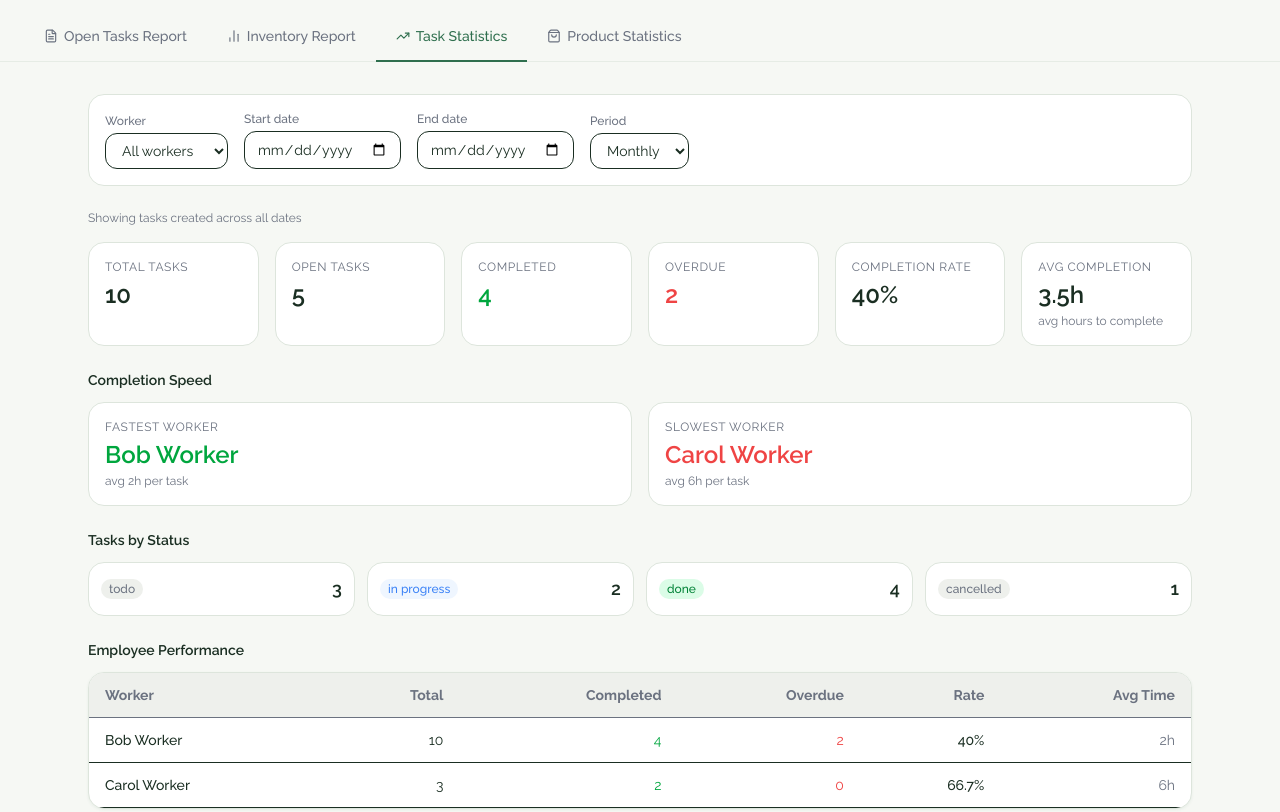
Test: Task Statistics Report tab › reflects the selected date range in the active filter caption
The width and height of the screenshot is (1280, 812).
Step 1. Type "2026-06-04" into the date field with test id "filter-start-date" → [322, 150], box [244, 131, 401, 169]
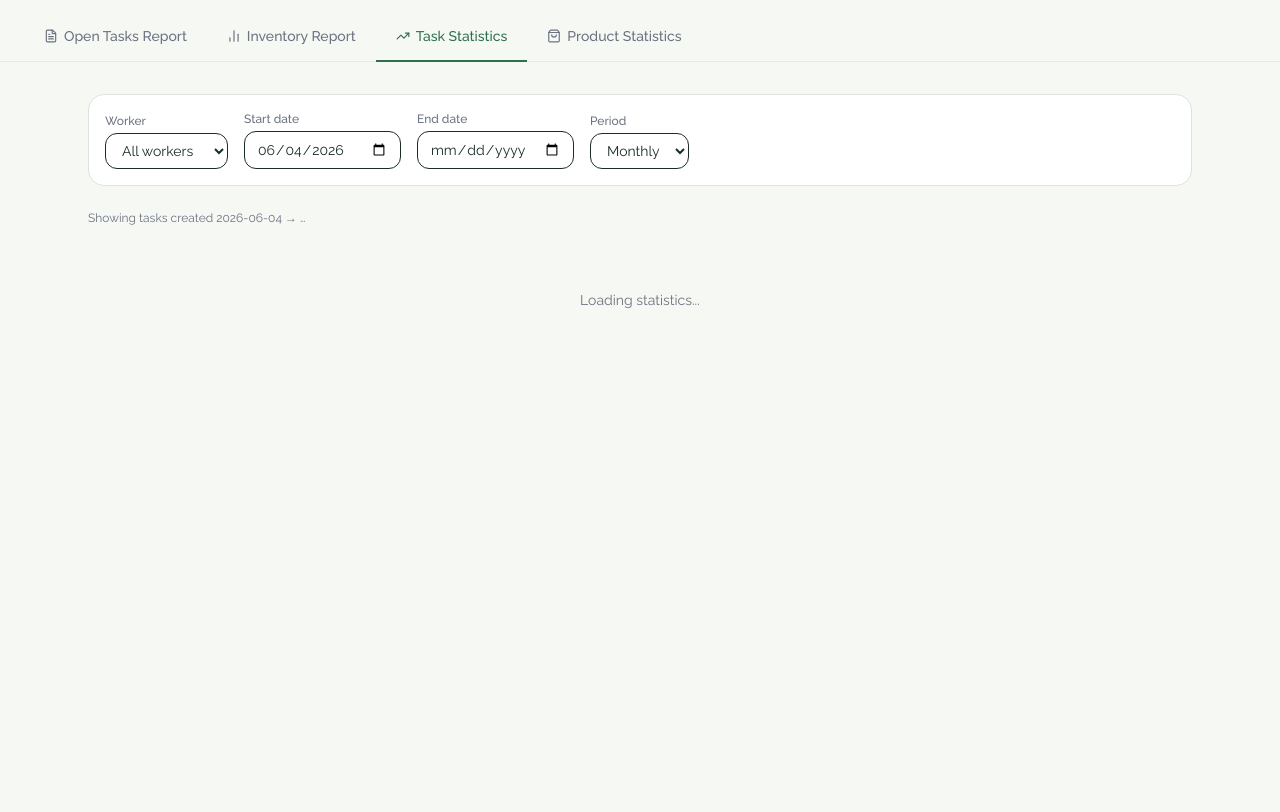
Step 2. Type "2026-06-04" into the date field with test id "filter-end-date" → [496, 150], box [417, 131, 574, 169]
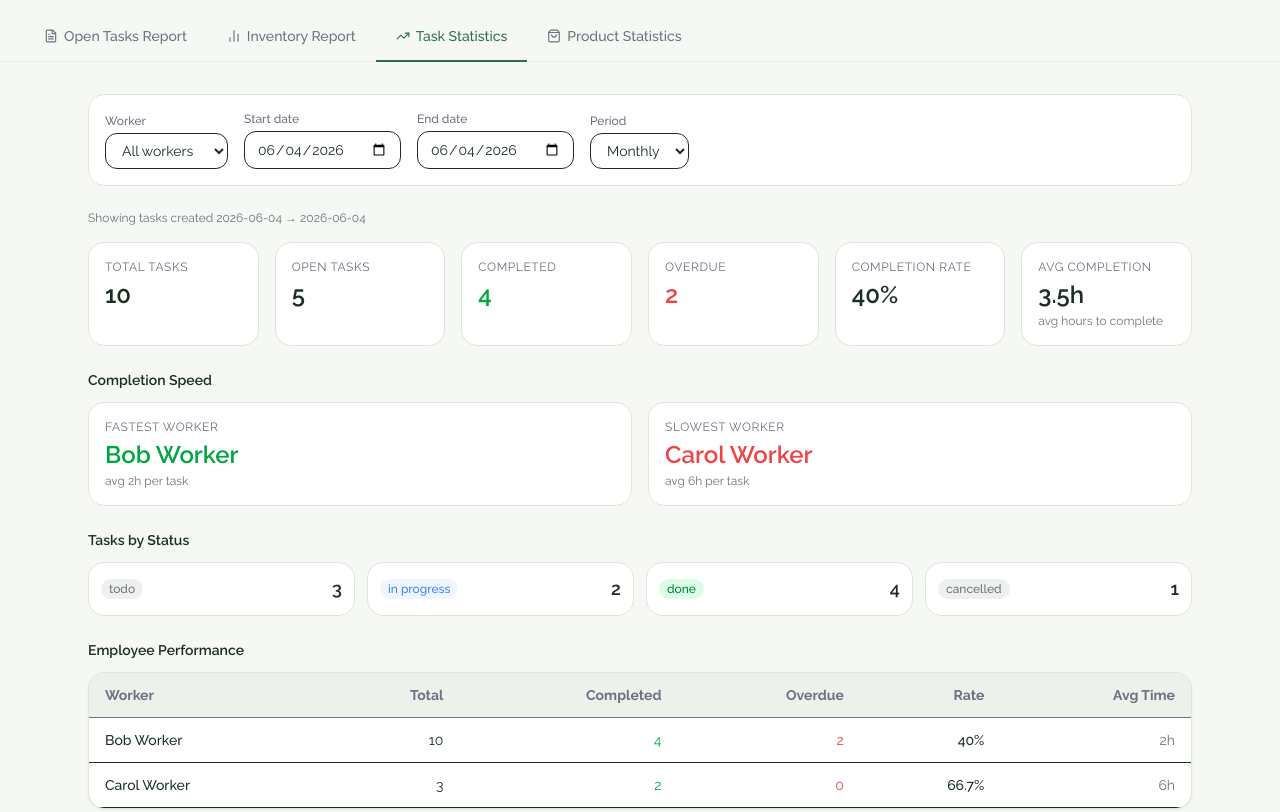
Expected: the text with test id "active-date-filter" shows "2026-06-04 → 2026-06-04", [88, 211, 366, 225]
